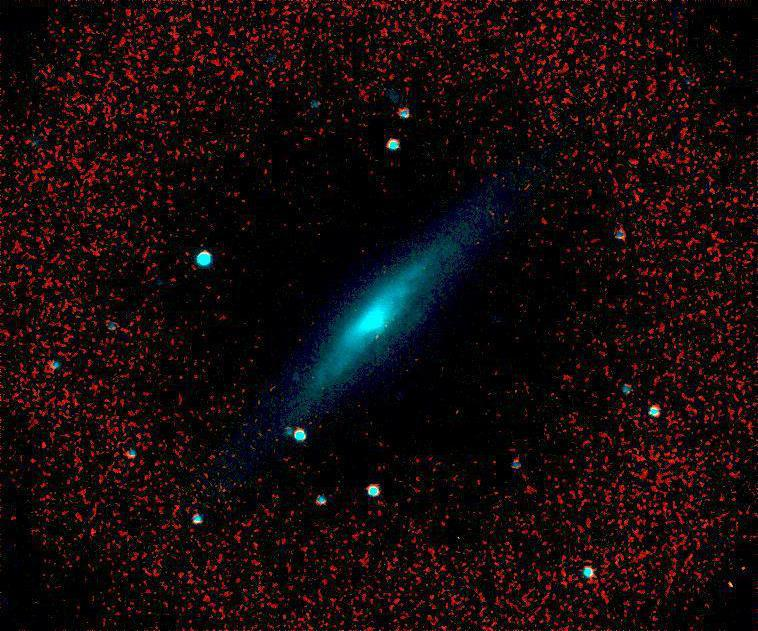star: (411, 253, 441, 283)
